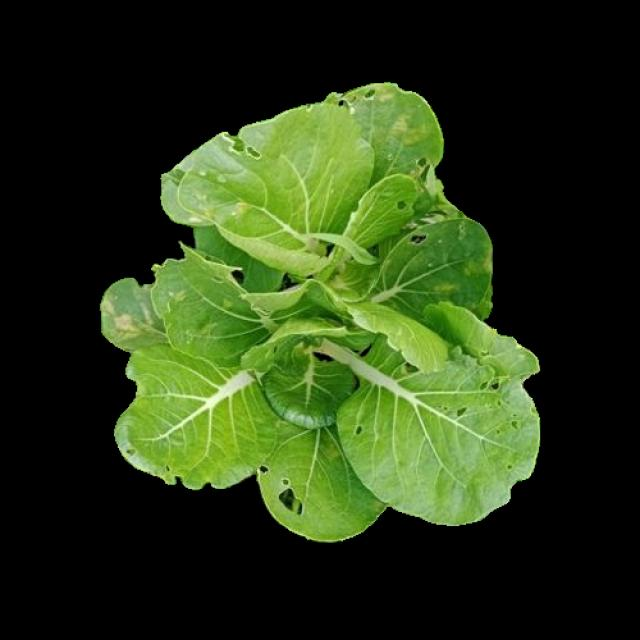mature: (100, 86, 535, 540)
unhealthy: (339, 88, 492, 311), (179, 106, 375, 273), (339, 356, 531, 523), (117, 346, 275, 489), (152, 247, 342, 349), (256, 424, 390, 535)
